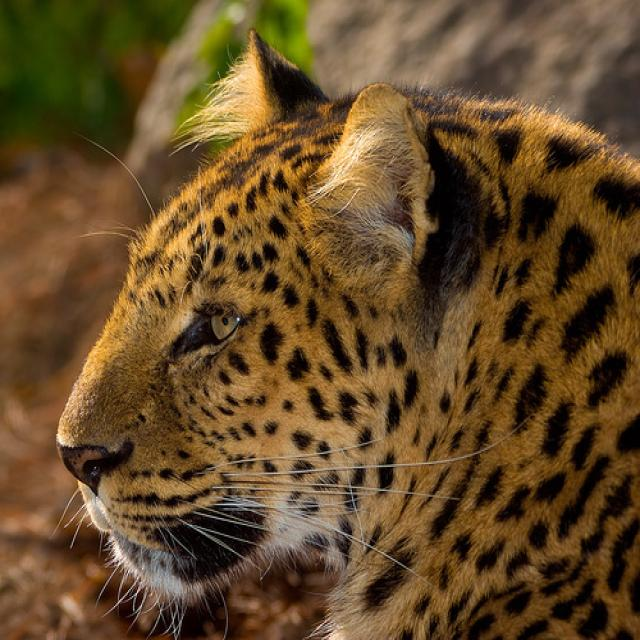Leopard: (52, 19, 635, 630)
